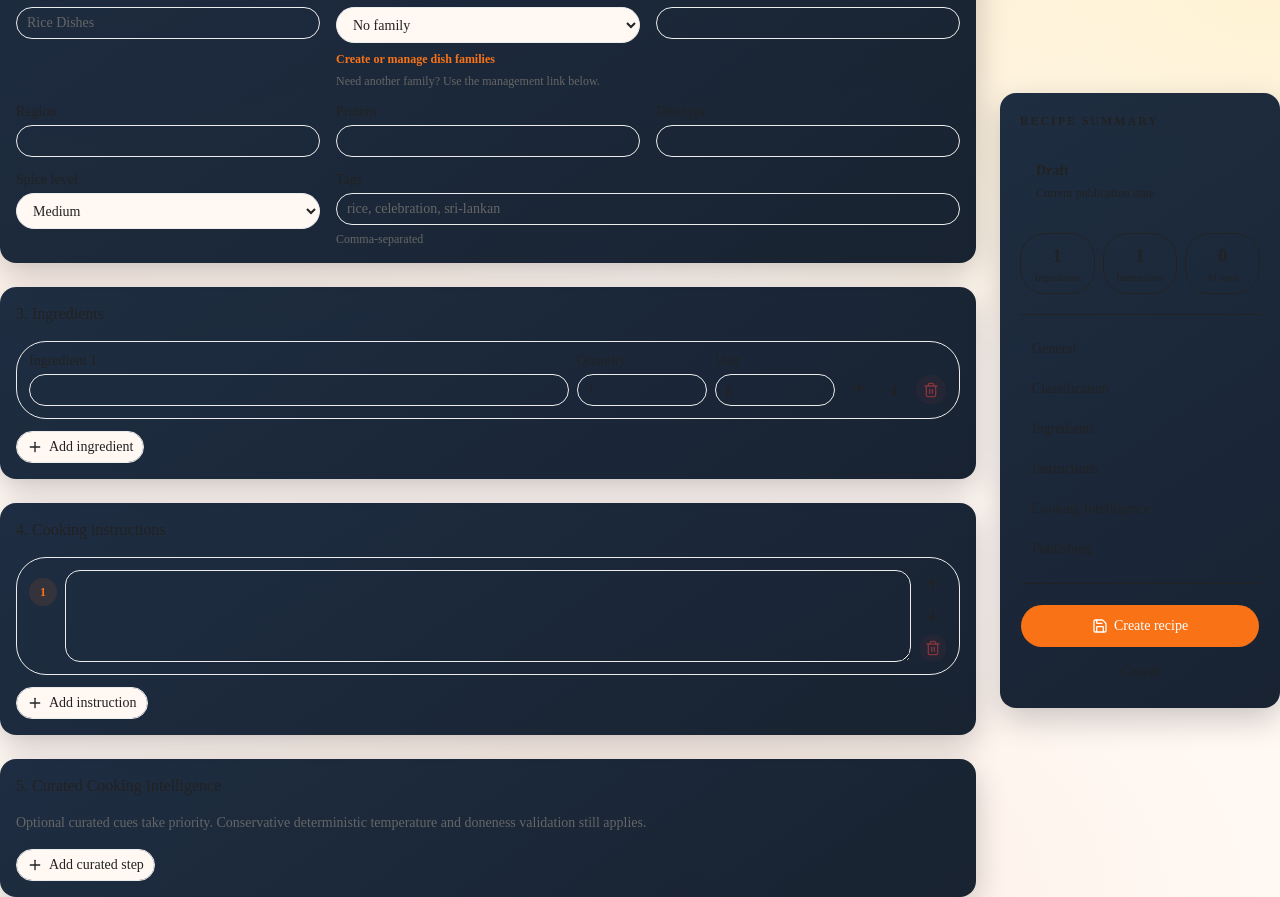
Test: RecipeForm › adds, reorders, and removes dynamic ingredients and curated cooking steps
(page scrolled)
Click the button "Add ingredient": (80, 447) top-left (16, 431), bottom-right (144, 463)
(page scrolled)
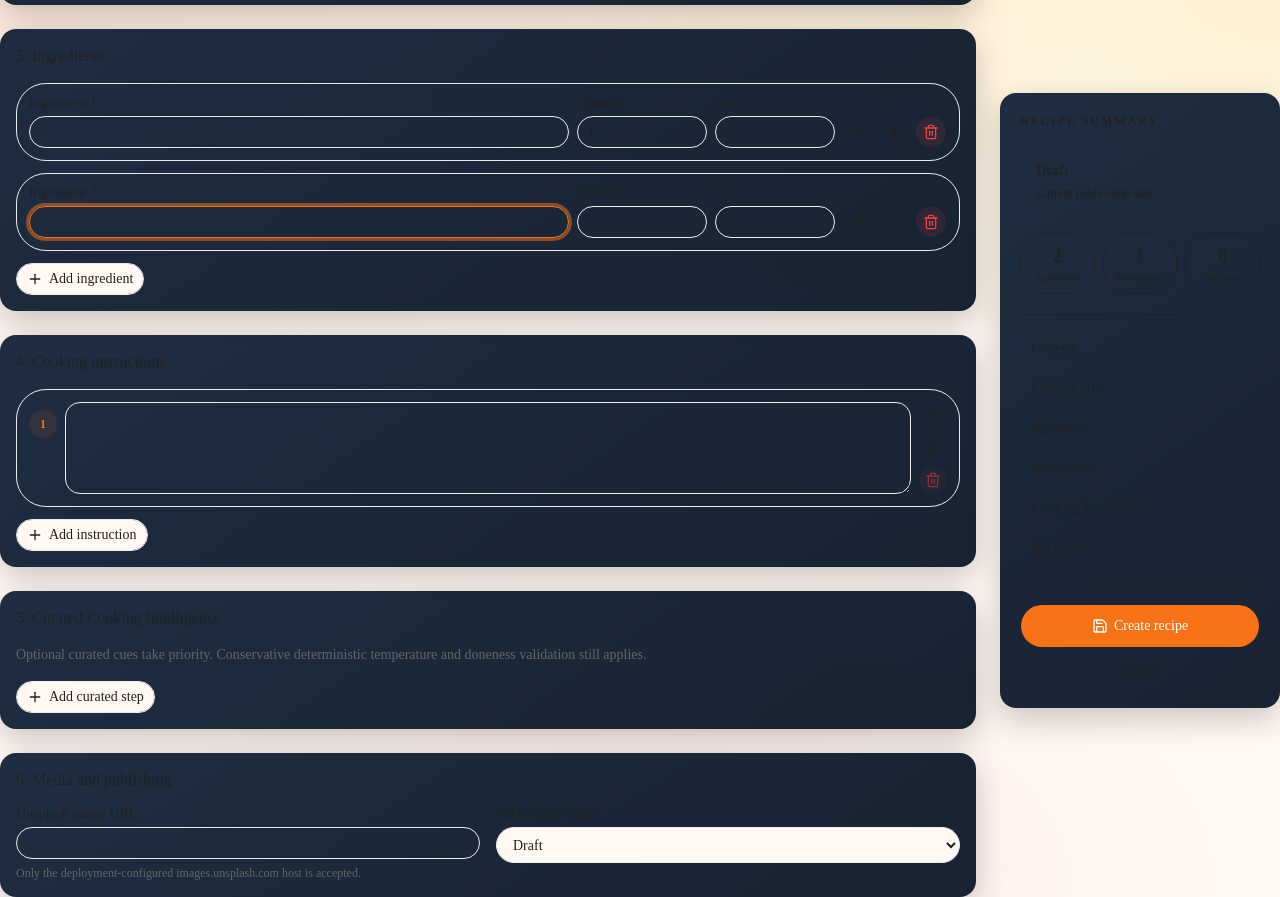
Expected: the text "Ingredient 2" is shown, top-left (29, 185), bottom-right (97, 200)
Click the button "Add curated step": (85, 697) top-left (16, 681), bottom-right (155, 713)
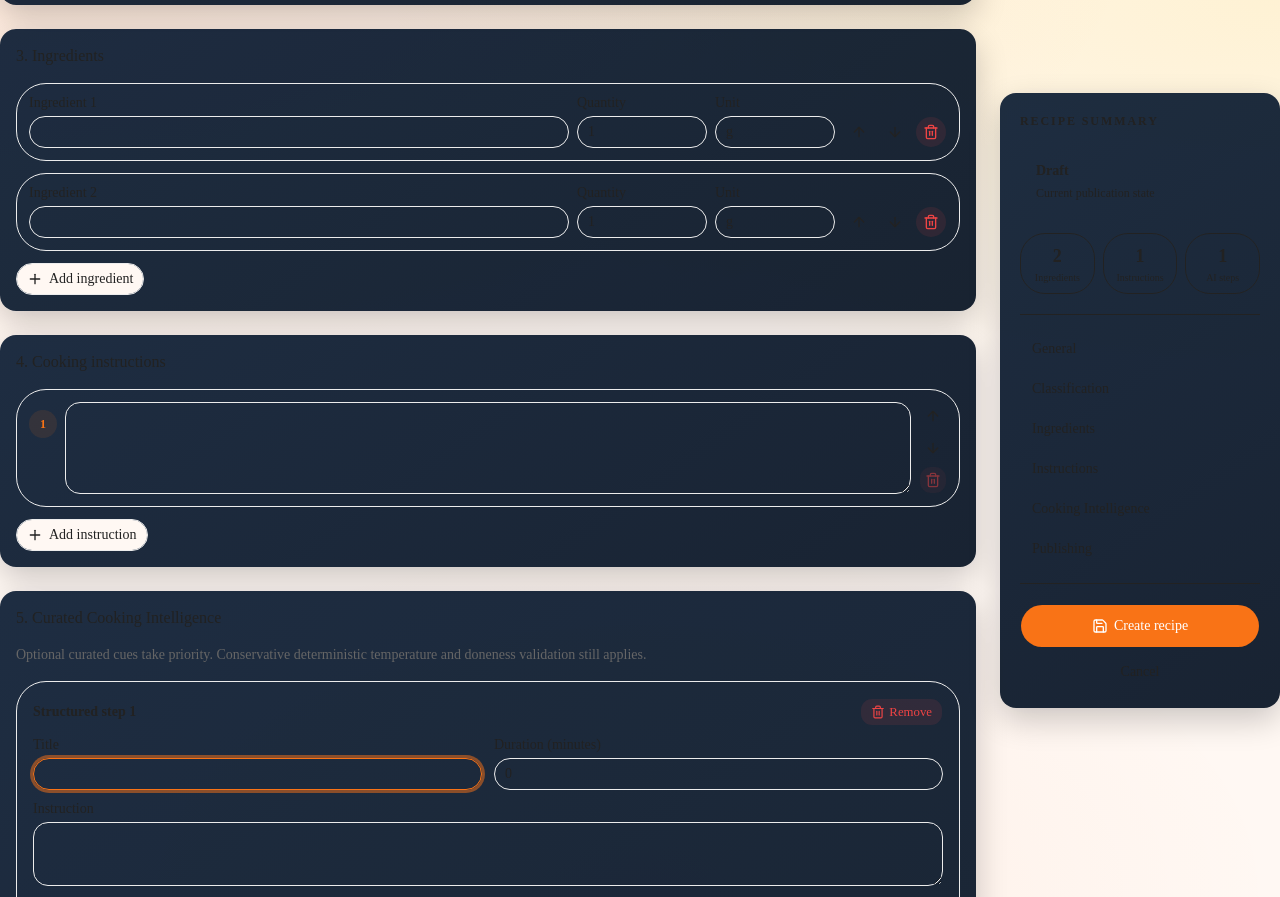
Expected: the text "Structured step 1" is shown, top-left (33, 702), bottom-right (136, 722)
Click the button "Remove": (902, 712) top-left (860, 698), bottom-right (943, 726)
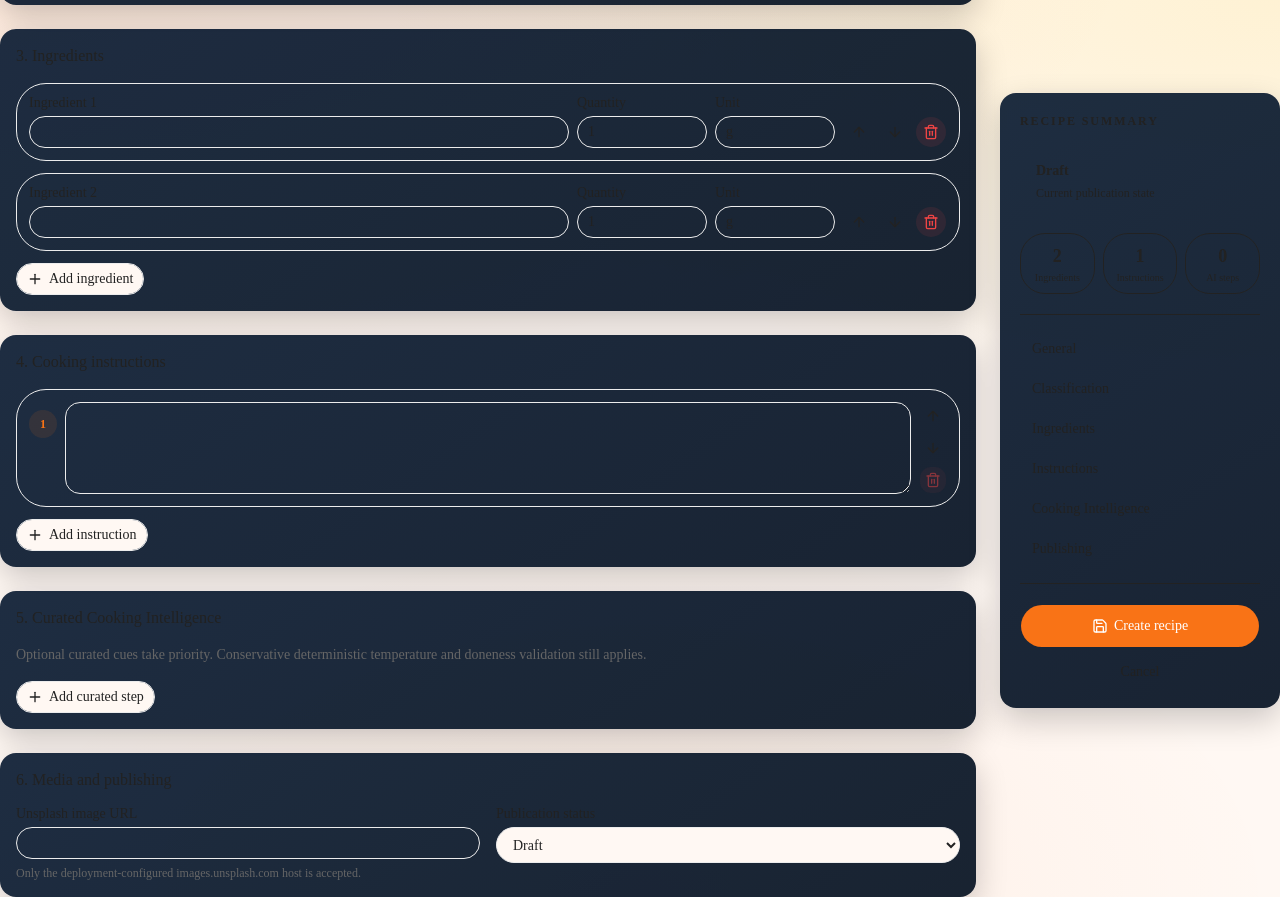
Expected: the text "Structured step 1" is gone
